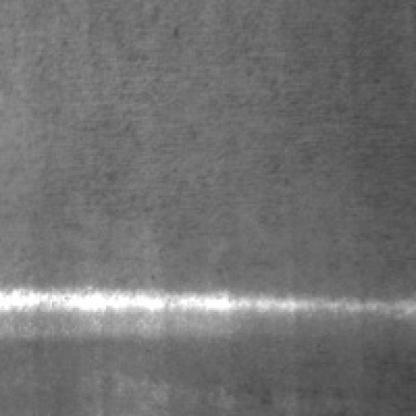scratches: (4, 281, 416, 337)
